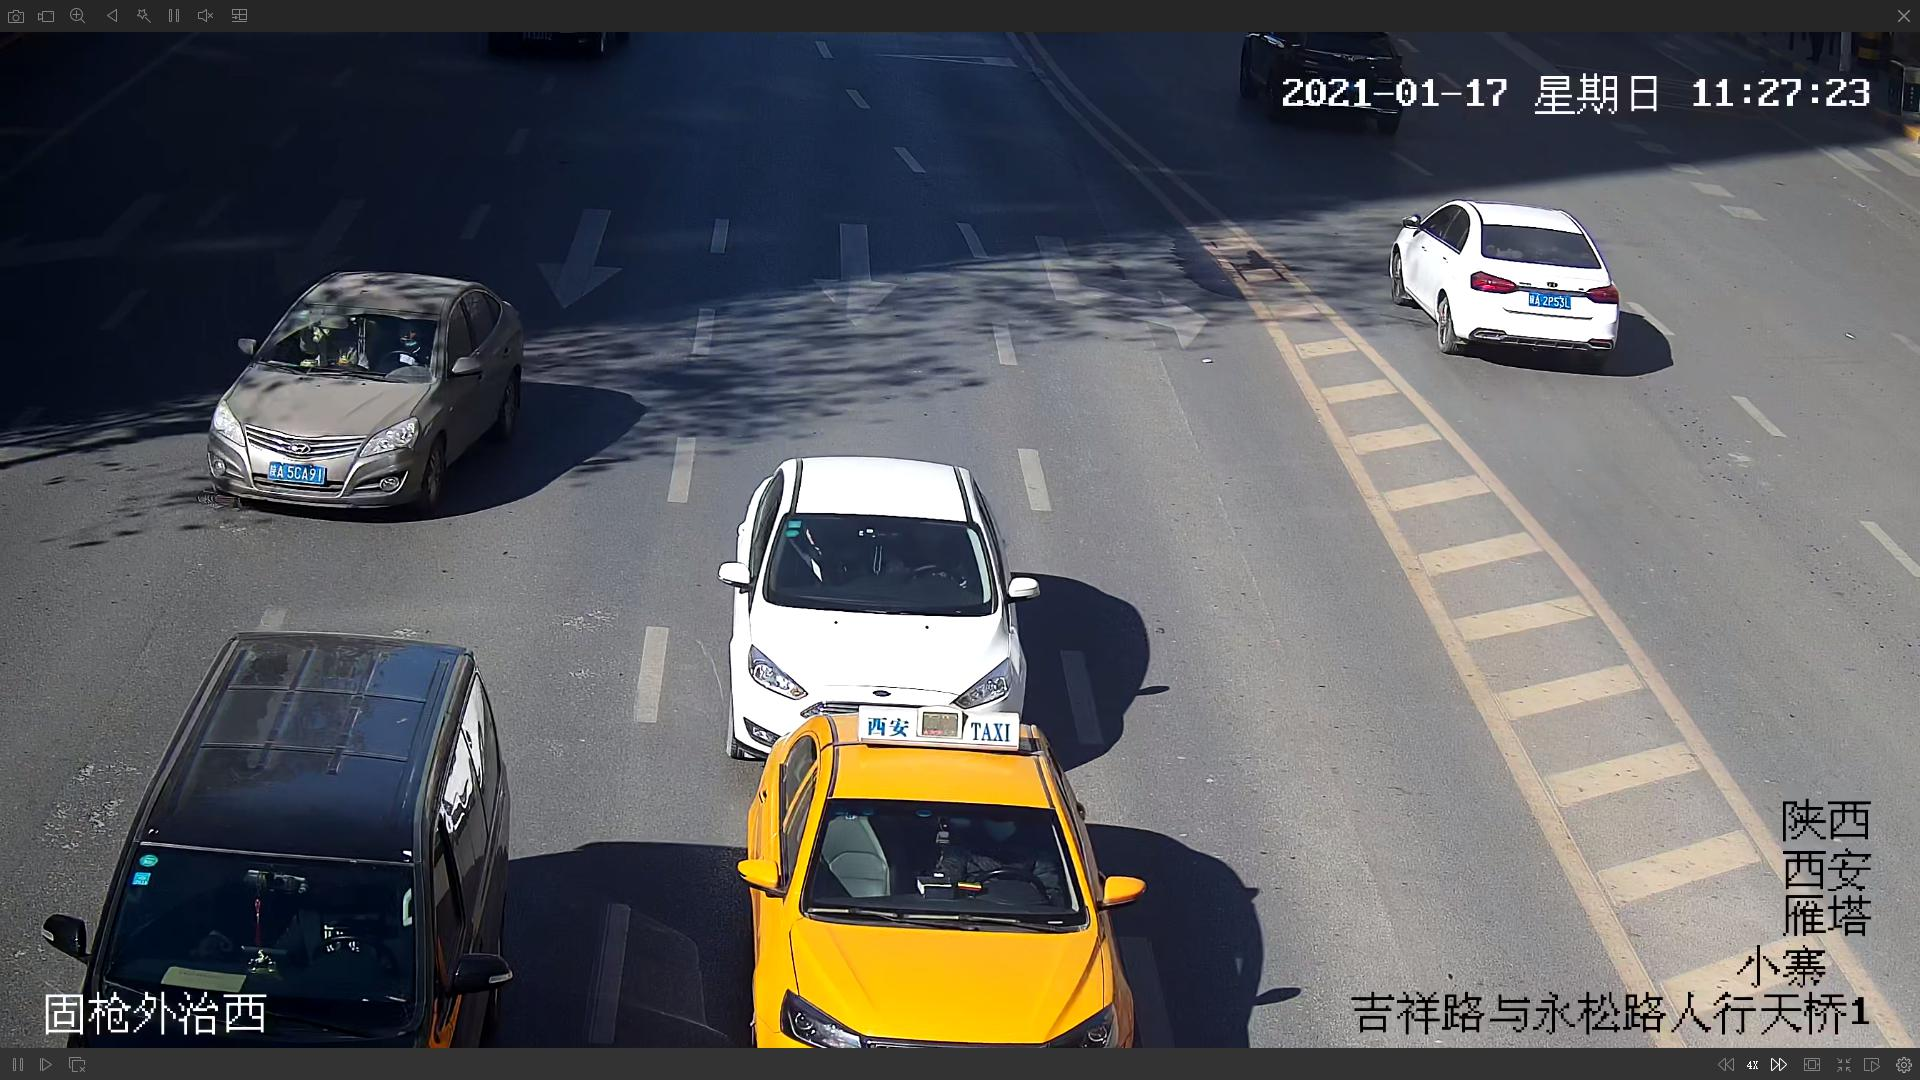black: (66, 634, 506, 1048)
gray: (207, 266, 530, 526)
orange: (741, 712, 1134, 1044)
white: (709, 454, 1026, 738)
